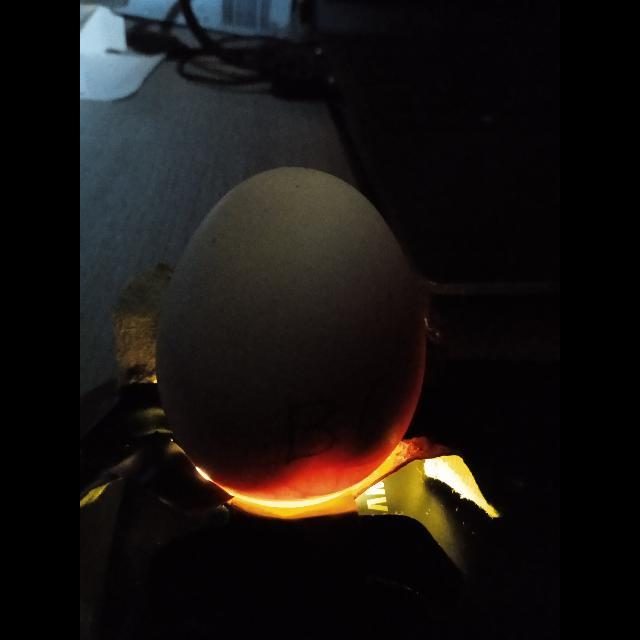Fertile: (158, 167, 428, 508)
